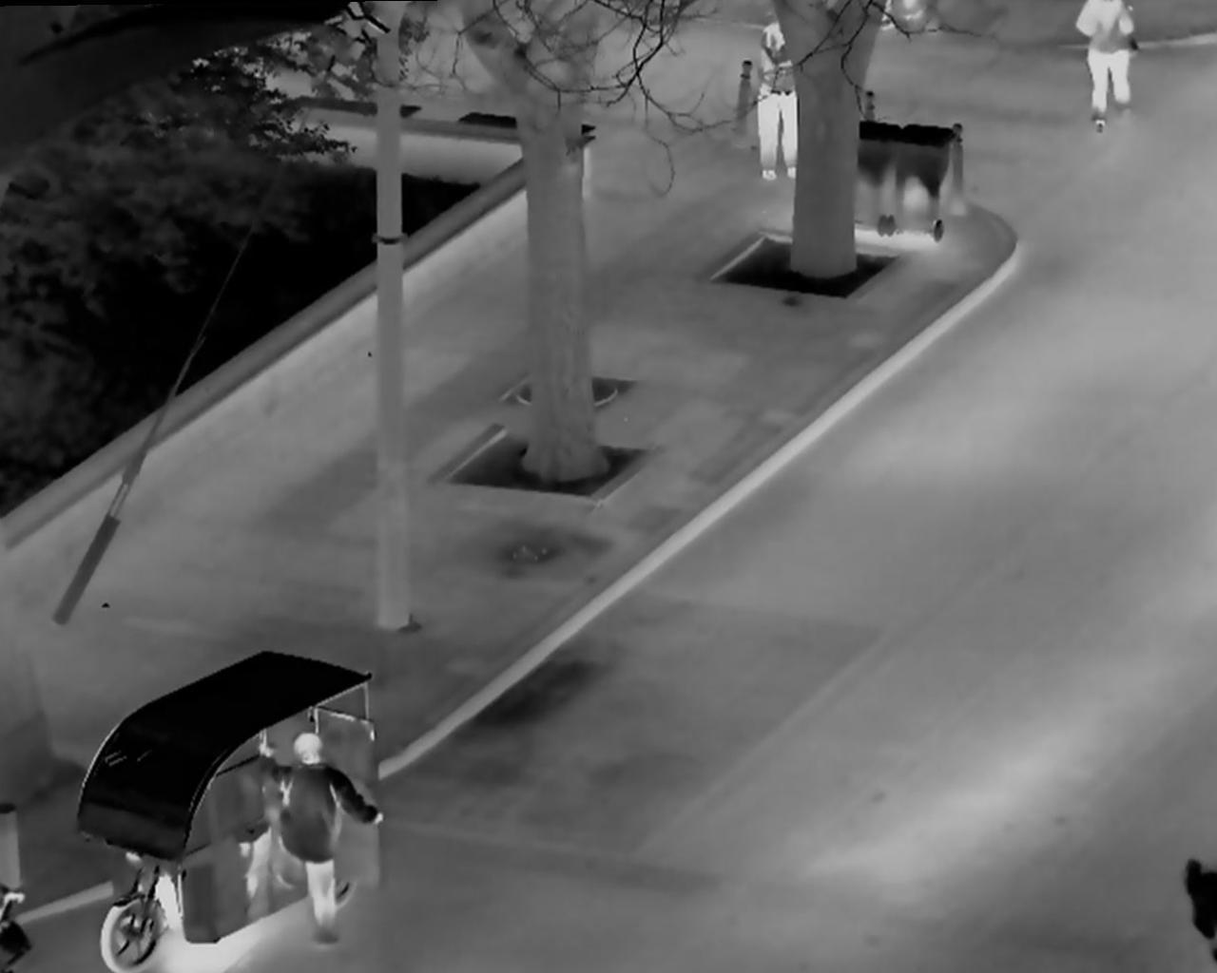person: (274, 733, 377, 939), (744, 11, 822, 194)
